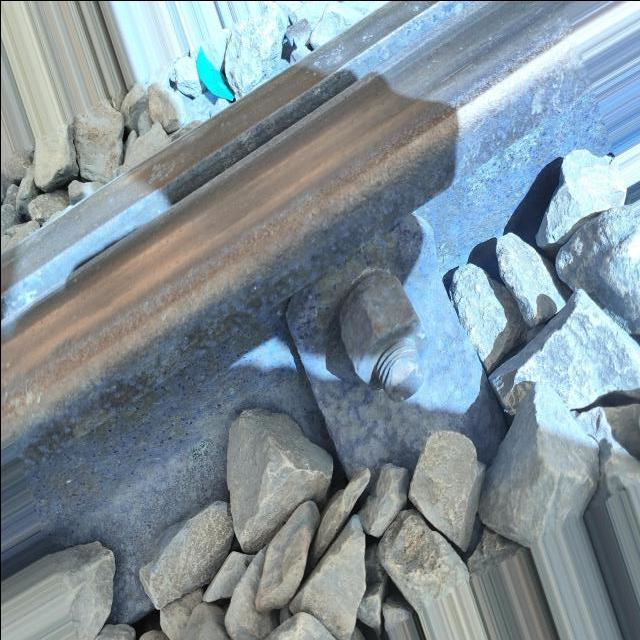squats_high: (146, 159, 176, 186), (8, 385, 42, 408), (325, 42, 345, 66), (305, 53, 323, 75), (362, 30, 374, 42), (218, 119, 224, 129), (412, 4, 419, 12), (74, 214, 80, 222)
